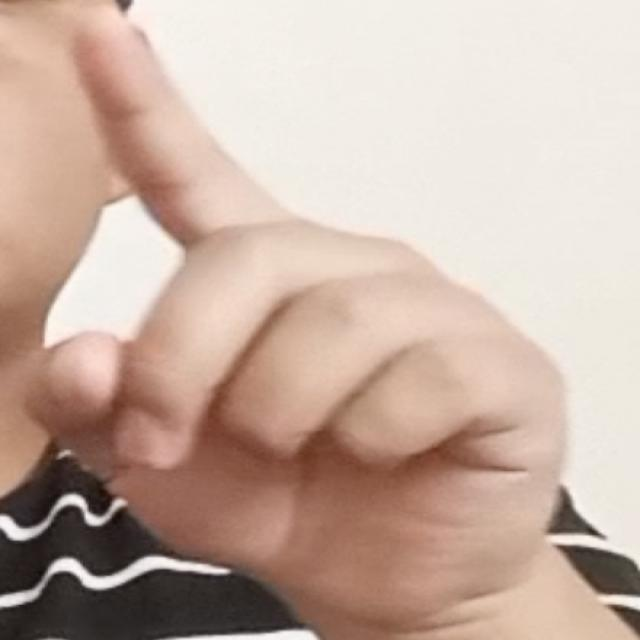Z: (19, 4, 573, 632)
